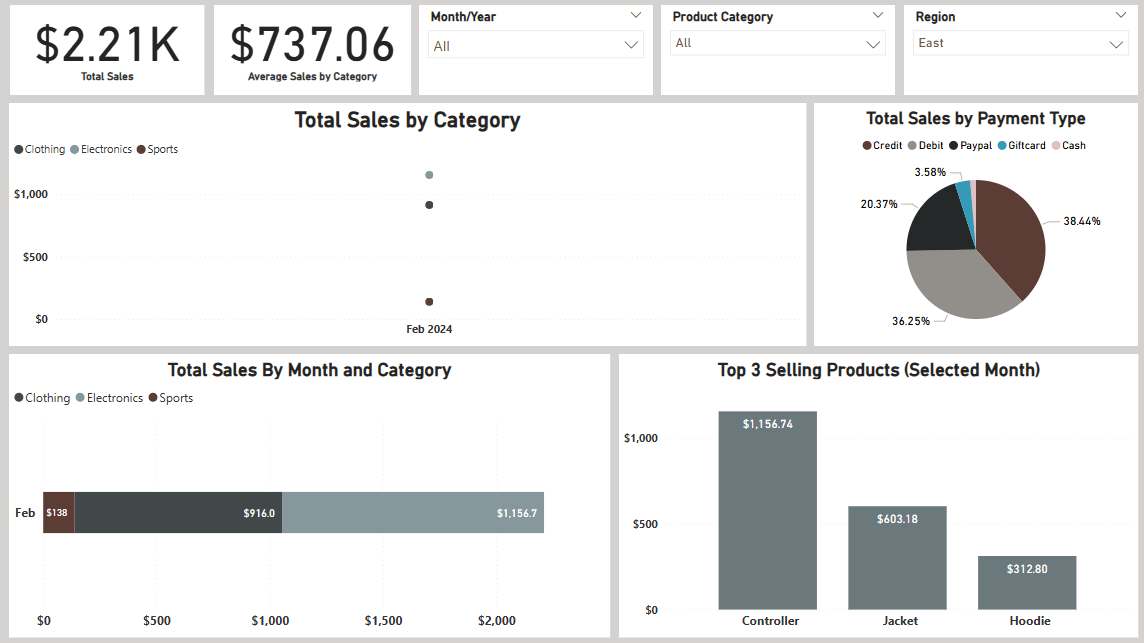

Layout of this report page (visuals, bound fields, positions):
{"tool":"powerbi","page":{"name":"Product Category Sales Insights Dashboard","canvas":[1280,720],"ordinal":1},"visuals":[{"type":"lineChart","title":"Total Sales by Category","fields":{"Category":["sale.MonthYear"],"Y":["sale.Total Sales"],"Series":["product.category"]},"box":[11,118,886,270],"z":0},{"type":"barChart","title":"Total Sales By Month and Category","fields":{"Category":["sale.Month"],"Series":["product.category"],"Y":["sale.Total Sales"]},"box":[11,397,668,315],"z":1000},{"type":"pieChart","title":"Total Sales by Payment Type","fields":{"Category":["sale.payment_type"],"Y":["sale.Sales by Payment Type"]},"box":[906,118,360,270],"z":2000},{"type":"card","fields":{"Values":["sale.Total Sales"]},"box":[12,9,216,100],"z":3000},{"type":"card","fields":{"Values":["sale.Average Sales by Category"]},"box":[239,9,219,100],"z":4000},{"type":"slicer","fields":{"Values":["product.category"]},"box":[736,9,260,100],"z":5000},{"type":"slicer","fields":{"Values":["sale.MonthYear"]},"box":[467,9,260,100],"z":6000},{"type":"slicer","fields":{"Values":["customer.region"]},"box":[1006,9,260,100],"z":7000},{"type":"clusteredColumnChart","title":"Top 3 Selling Products (Selected Month)","fields":{"Category":["product.product_name"],"Y":["sale.Total Sales"]},"box":[689,397,577,315],"z":8000}]}

Visuals, with their boxes in screenshot pixels (x1, y1, x2, y2), scaled from the page's 1280x720 canvas onto the 1144x643 screenshot:
"Total Sales by Category" lineChart: select_region(10, 105, 802, 347)
"Total Sales By Month and Category" barChart: select_region(10, 355, 607, 636)
"Total Sales by Payment Type" pieChart: select_region(810, 105, 1131, 347)
card - sale.Total Sales: select_region(11, 8, 204, 97)
card - sale.Average Sales by Category: select_region(214, 8, 409, 97)
slicer - product.category: select_region(658, 8, 890, 97)
slicer - sale.MonthYear: select_region(417, 8, 650, 97)
slicer - customer.region: select_region(899, 8, 1131, 97)
"Top 3 Selling Products (Selected Month)" clusteredColumnChart: select_region(616, 355, 1131, 636)
